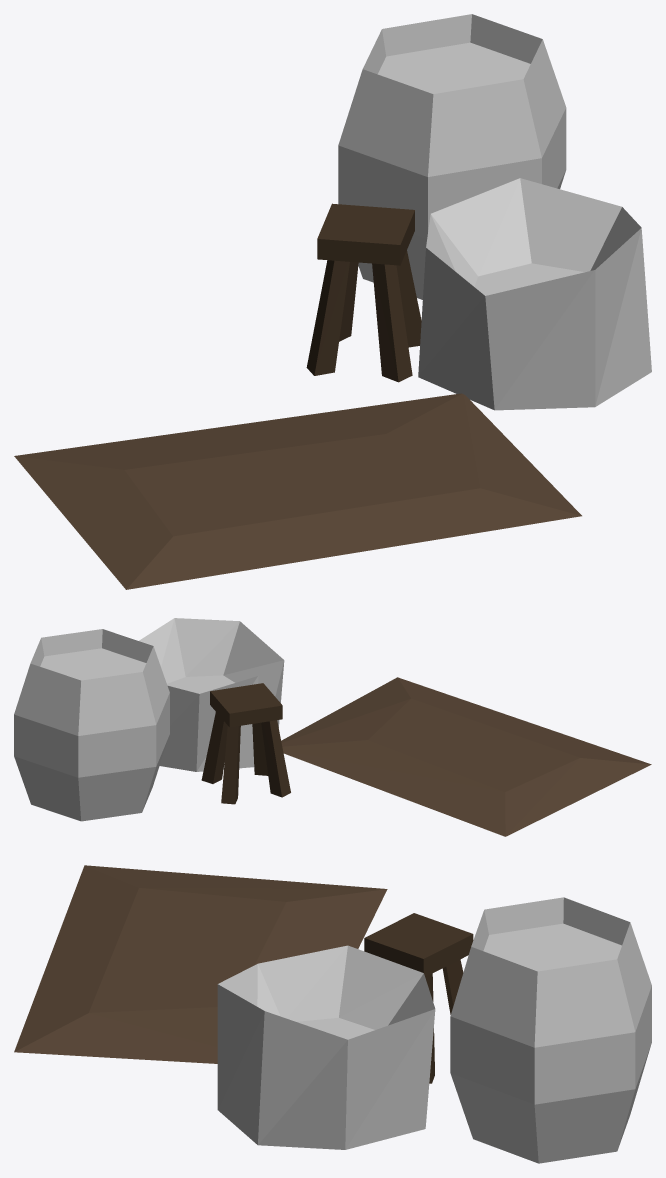
Rendered from HERB_PSI.OBJ.
The picture shows the model from 3 angles, top to bottom: view 1: azimuth 30°, elevation 25°; view 2: azimuth 150°, elevation 25°; view 3: azimuth 270°, elevation 25°; orthographic projection. The views are drawn at different scales.
Parts seen in each view (by area): view 1: HERB_PSI; view 2: HERB_PSI; view 3: HERB_PSI.
Boxes of the visible parts, <box> form: HERB_PSI: <box>14,14,651,589</box>; HERB_PSI: <box>14,618,651,836</box>; HERB_PSI: <box>14,865,651,1163</box>.
Bounding box in the file's own units: 2.73 × 0.8009 × 2.39.
